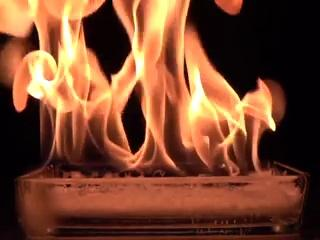Fire: (31, 1, 284, 181)
